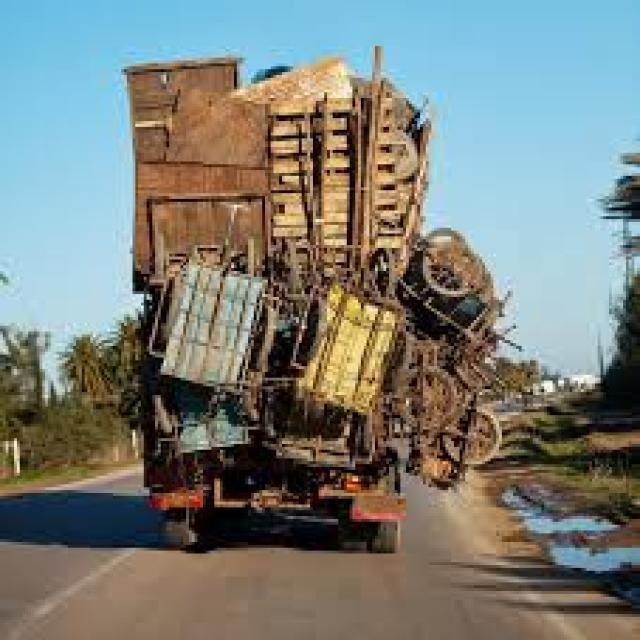uncovered: (126, 53, 503, 552)
